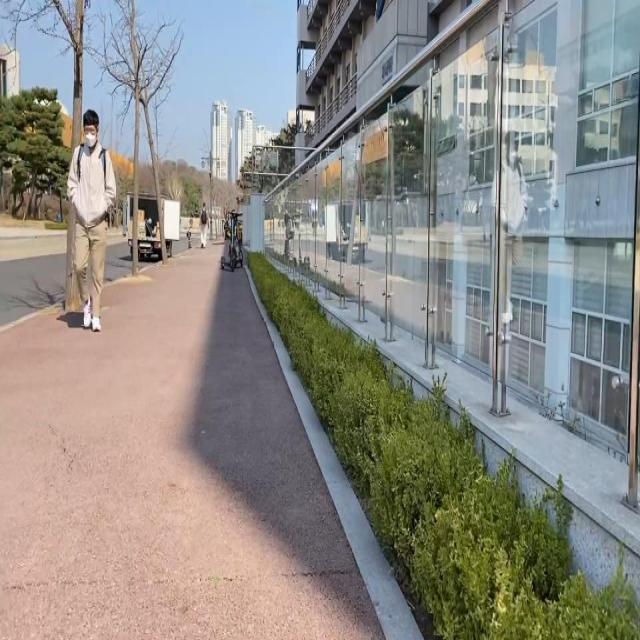sidewalk: (0, 242, 383, 639)
